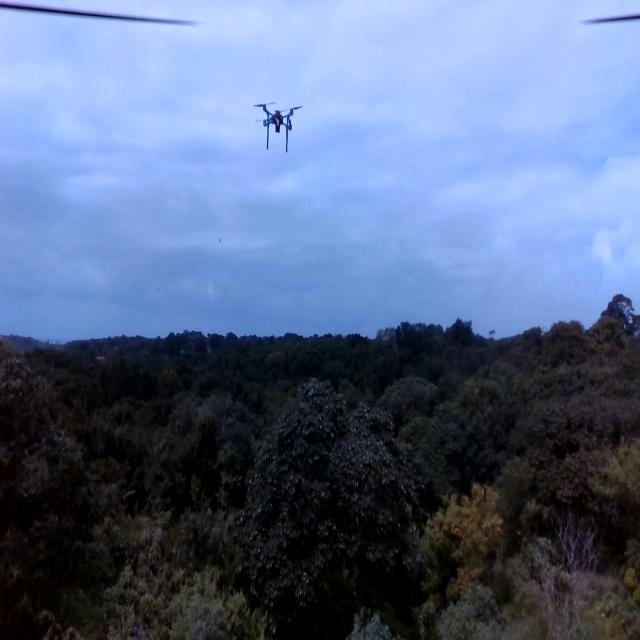-uav-: (250, 90, 308, 163)
